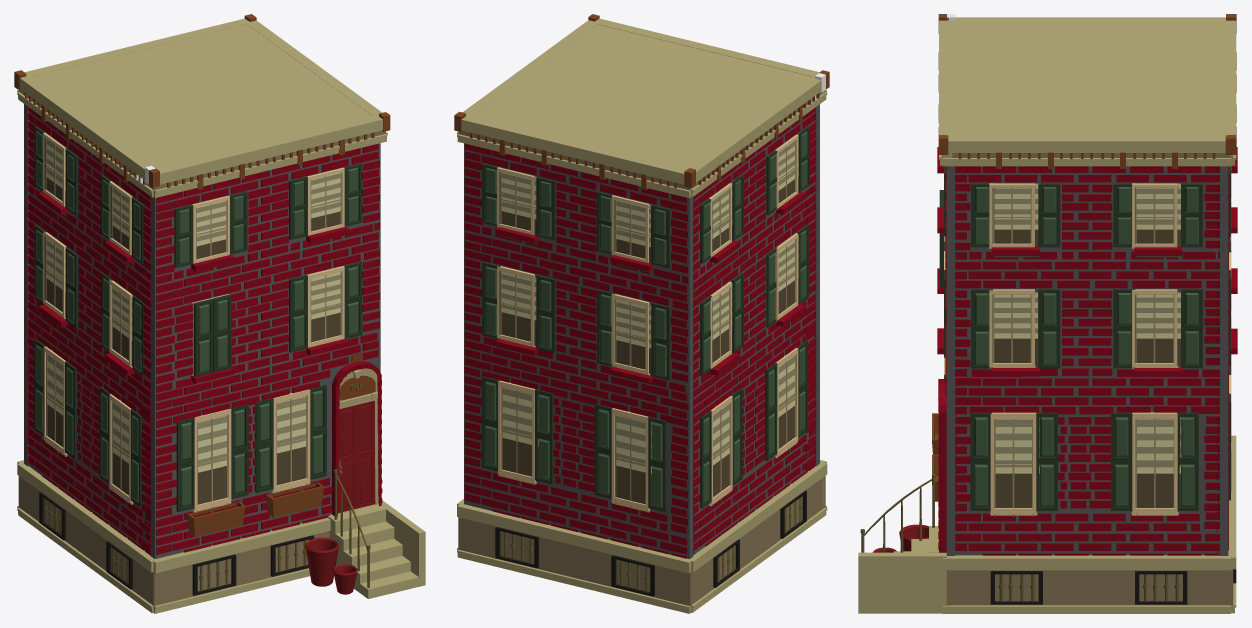
Rendered from red_brick_building.glb.
3 renders of one model, left to right at view 1: azimuth 30°, elevation 25°; view 2: azimuth 150°, elevation 25°; view 3: azimuth 270°, elevation 25°, orthographic. The views are drawn at different scales.
Parts seen in each view (by area): view 1: Plane.010_10, Plane.074_73, Plane.053_55, Plane_2, Plane.001_3, Plane.048_50, Plane.036_36, Plane.047_49, Plane.058_60, Plane.014_14, Plane.006_8, Plane.051_53 (+24 smaller); view 2: Plane.065_67, Plane.074_73, Plane.059_61, Plane.053_55, Plane.060_62, Plane.070_72, Plane.048_50, Plane.047_49, Plane.063_65, Plane.058_60, Plane.051_53, Plane.069_71 (+17 smaller); view 3: Plane.041_43, Plane.074_73, Plane.008_37, Plane.015_38, Plane.046_48, Plane.039_41, Plane.014_14, Plane.045_47, Plane.044_46, Plane.059_61, Plane_2, Plane.043_45 (+13 smaller).
Boxes of the visible parts, x1=… form: Plane.010_10: x1=141, y1=143, x2=380, y2=554; Plane.074_73: x1=32, y1=24, x2=371, y2=168; Plane.053_55: x1=28, y1=108, x2=163, y2=555; Plane_2: x1=151, y1=143, x2=380, y2=558; Plane.001_3: x1=149, y1=114, x2=387, y2=613; Plane.048_50: x1=17, y1=76, x2=157, y2=613; Plane.036_36: x1=195, y1=168, x2=344, y2=504; Plane.047_49: x1=29, y1=111, x2=150, y2=550; Plane.058_60: x1=46, y1=136, x2=133, y2=497; Plane.014_14: x1=327, y1=501, x2=425, y2=598; Plane.006_8: x1=192, y1=167, x2=344, y2=512; Plane.051_53: x1=43, y1=132, x2=133, y2=504; Plane.065_67: x1=464, y1=143, x2=693, y2=558; Plane.074_73: x1=472, y1=24, x2=811, y2=168; Plane.059_61: x1=464, y1=143, x2=693, y2=558; Plane.053_55: x1=693, y1=113, x2=815, y2=550; Plane.060_62: x1=457, y1=116, x2=694, y2=613; Plane.070_72: x1=501, y1=168, x2=651, y2=504; Plane.048_50: x1=687, y1=76, x2=827, y2=612; Plane.047_49: x1=693, y1=112, x2=815, y2=554; Plane.063_65: x1=497, y1=167, x2=650, y2=512; Plane.058_60: x1=712, y1=134, x2=798, y2=496; Plane.051_53: x1=709, y1=135, x2=798, y2=506; Plane.069_71: x1=594, y1=404, x2=666, y2=511; Plane.041_43: x1=946, y1=166, x2=1219, y2=555; Plane.074_73: x1=952, y1=23, x2=1222, y2=135; Plane.008_37: x1=946, y1=166, x2=1219, y2=555; Plane.015_38: x1=942, y1=135, x2=1230, y2=613; Plane.046_48: x1=994, y1=183, x2=1181, y2=507; Plane.039_41: x1=989, y1=183, x2=1178, y2=516; Plane.014_14: x1=858, y1=526, x2=946, y2=613; Plane.045_47: x1=1111, y1=412, x2=1198, y2=510; Plane.044_46: x1=970, y1=412, x2=1057, y2=510; Plane.059_61: x1=1220, y1=147, x2=1237, y2=555; Plane_2: x1=937, y1=147, x2=955, y2=555; Plane.043_45: x1=971, y1=289, x2=1060, y2=368.
Size of the model in its own units: 2.58 by 4.56 by 3.3.
19 materials, 18 textured.
